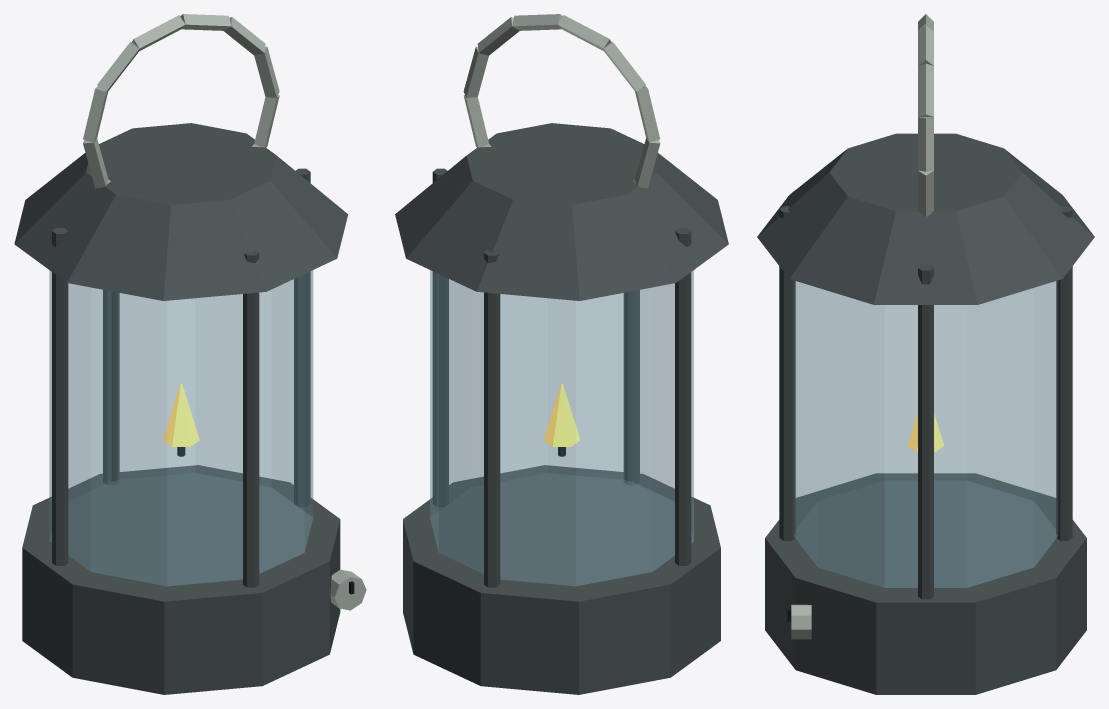
Rendered from blender_firelight_3_lit.glb.
The picture shows the model from 3 angles, left to right: view 1: azimuth 30°, elevation 25°; view 2: azimuth 150°, elevation 25°; view 3: azimuth 270°, elevation 25°; orthographic projection.
Parts seen in each view (by area): view 1: blender_firelight_3_lit; view 2: blender_firelight_3_lit; view 3: blender_firelight_3_lit.
Boxes of the visible parts, x1,y1,x2,y2 form: blender_firelight_3_lit: (14,14,366,694); blender_firelight_3_lit: (395,14,728,694); blender_firelight_3_lit: (757,14,1094,694).
Bounding box in the file's own units: 0.1578 × 0.3282 × 0.1659.
Materials: 3 (3 with a texture image).
